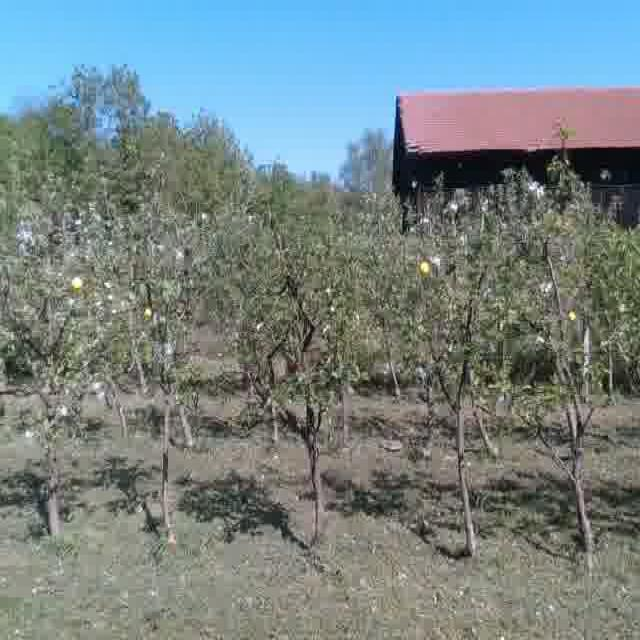yellow: (70, 276, 85, 289), (420, 260, 429, 272), (568, 309, 577, 321), (143, 307, 152, 317)
